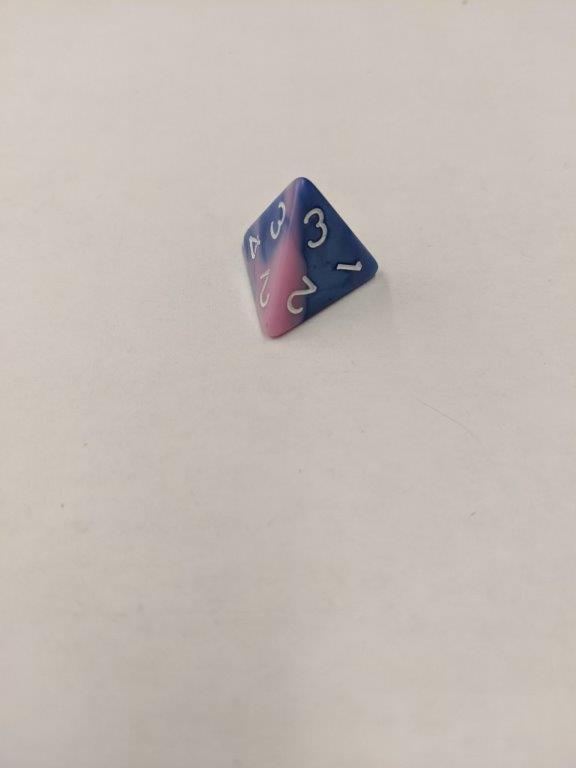d4-3: (236, 173, 379, 343)
